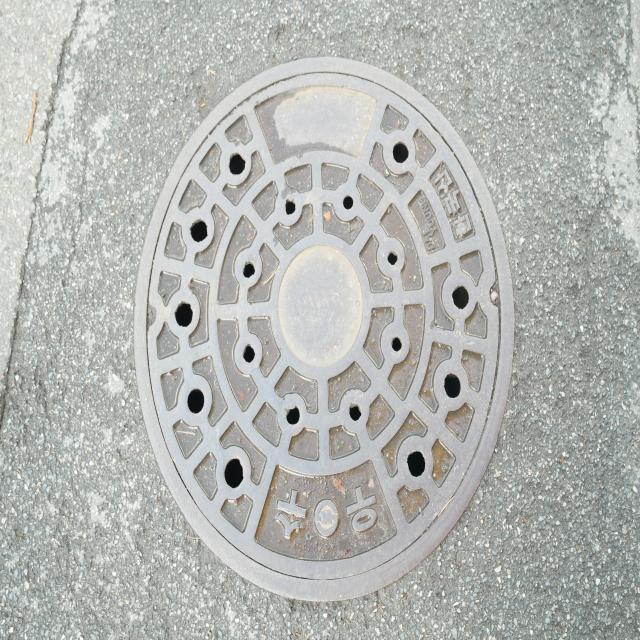manhole: (132, 59, 516, 605)
